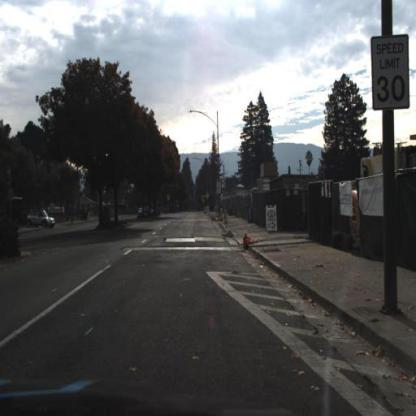car: (25, 210, 55, 228)
